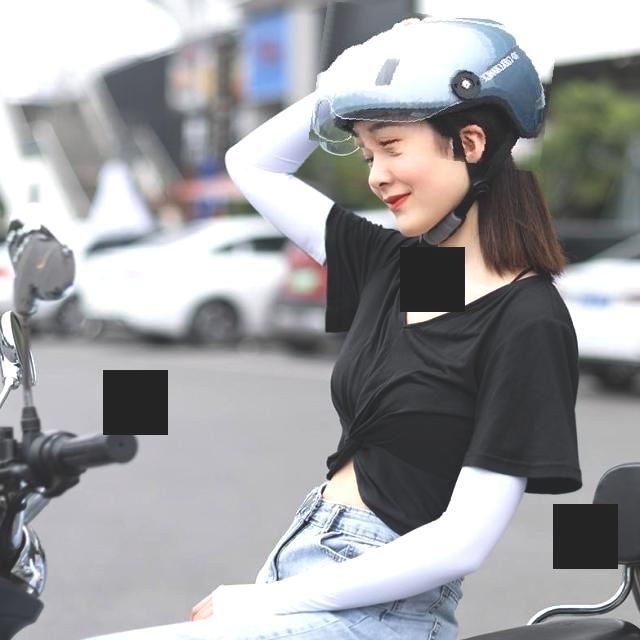helmet: (313, 8, 554, 165)
